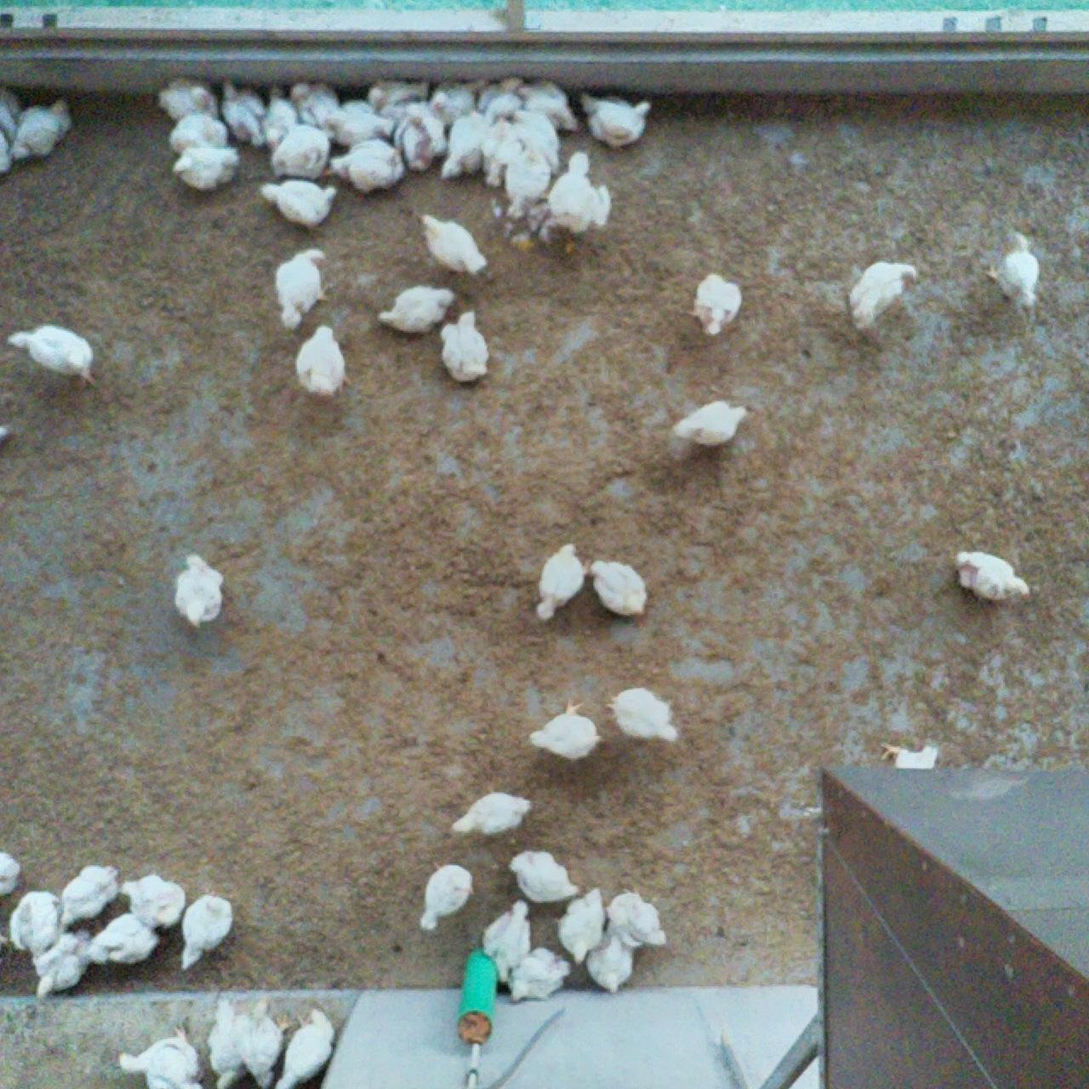chicken: (541, 152, 615, 255), (4, 322, 97, 382), (117, 1031, 211, 1089), (578, 80, 651, 151), (610, 681, 680, 751), (417, 210, 490, 277), (984, 233, 1048, 309), (950, 545, 1029, 606), (280, 1006, 337, 1089), (31, 929, 98, 998), (273, 248, 332, 326), (850, 260, 915, 329), (536, 539, 590, 619), (238, 999, 285, 1088), (527, 707, 604, 761), (584, 558, 653, 618), (173, 552, 225, 630), (510, 847, 583, 902), (294, 323, 345, 401), (676, 396, 752, 448), (380, 284, 453, 337), (199, 1002, 245, 1086), (451, 791, 536, 836), (513, 74, 577, 133), (329, 139, 400, 192), (183, 892, 233, 967), (3, 895, 60, 960), (483, 906, 530, 984), (14, 99, 75, 159), (423, 859, 471, 935), (607, 889, 670, 946), (261, 174, 331, 224), (442, 311, 490, 383), (562, 887, 606, 964), (120, 875, 185, 927), (590, 930, 637, 1000), (60, 865, 113, 927), (511, 946, 567, 1004), (328, 102, 396, 148), (92, 913, 154, 963), (692, 274, 741, 337), (225, 82, 265, 149), (174, 143, 234, 187), (513, 139, 545, 220), (290, 81, 338, 134), (442, 118, 483, 180), (402, 110, 444, 167), (429, 72, 482, 117), (875, 739, 940, 775), (159, 77, 216, 117), (172, 111, 226, 152), (480, 74, 534, 115), (485, 117, 510, 187), (263, 88, 291, 145), (370, 80, 428, 106), (1, 846, 20, 897), (1, 86, 19, 136), (1, 131, 18, 170)
